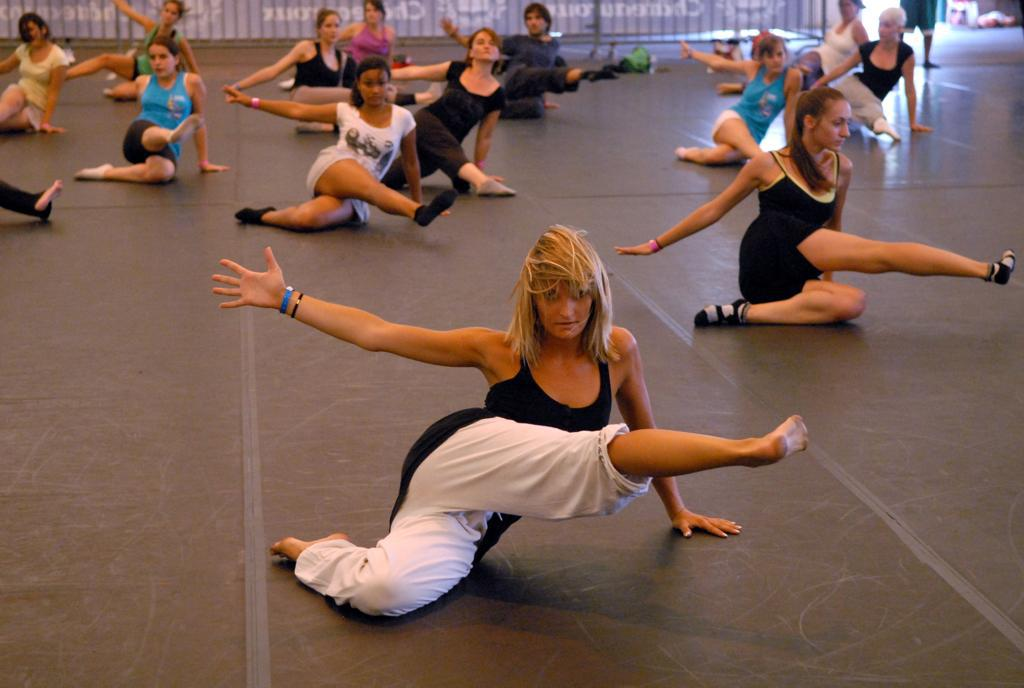face: (536, 279, 592, 340), (818, 108, 852, 152), (361, 73, 389, 106), (149, 49, 174, 77), (474, 35, 498, 61), (764, 46, 786, 73), (324, 19, 342, 43), (527, 13, 546, 35), (24, 23, 41, 46), (879, 20, 895, 43), (840, 1, 856, 22), (367, 4, 383, 25), (163, 5, 179, 25)
